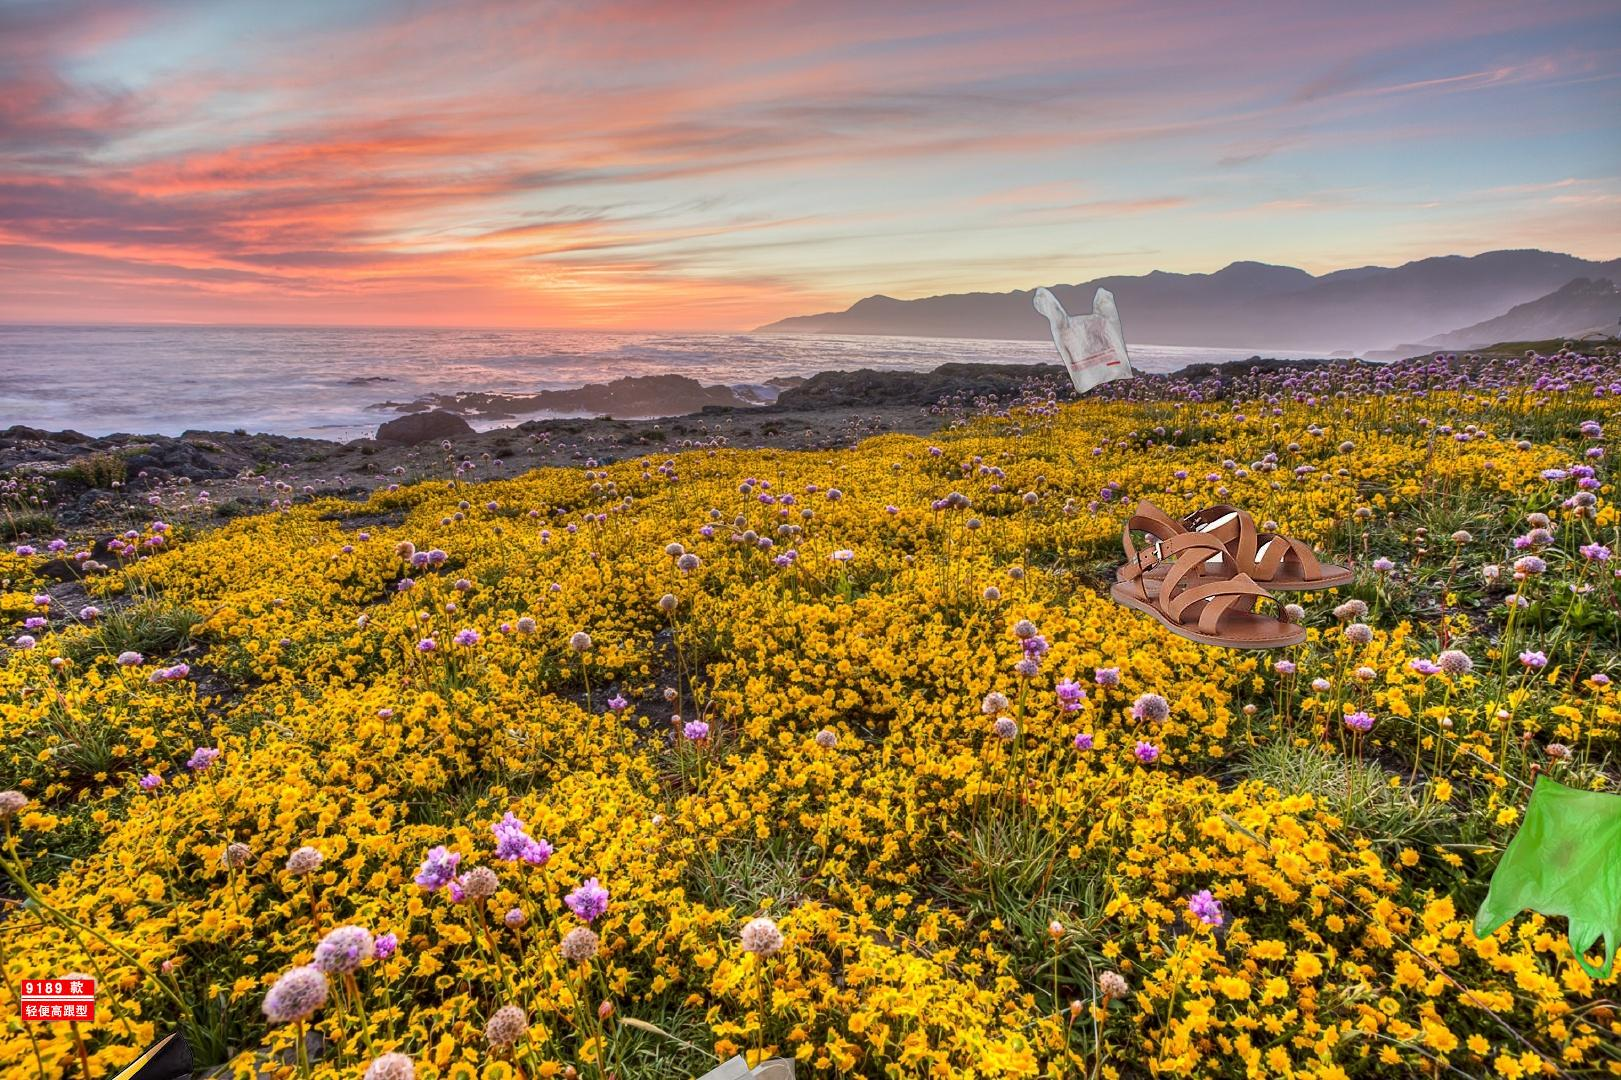paper-bag: (656, 1052, 811, 1080)
plastic-bag: (1470, 770, 1621, 982), (1030, 283, 1137, 397)
shoes: (1109, 497, 1359, 652), (18, 978, 229, 1080)
